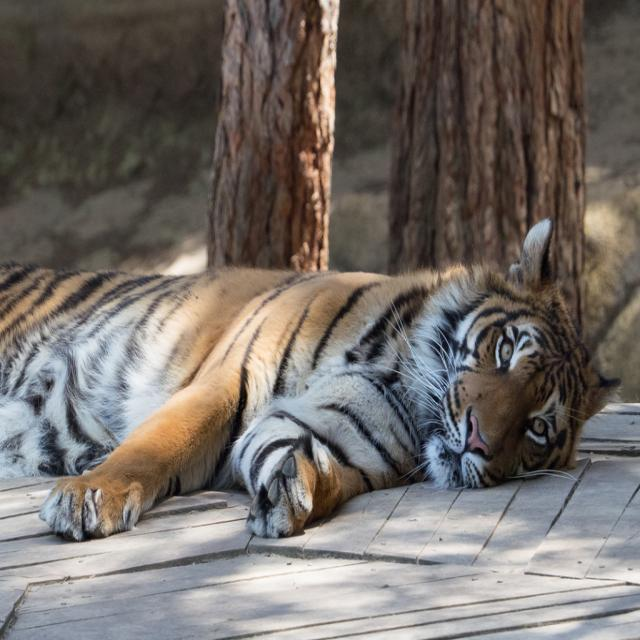Tiger: (0, 212, 622, 541)
